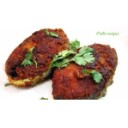seerfish: (5, 27, 68, 84), (54, 43, 118, 99)
